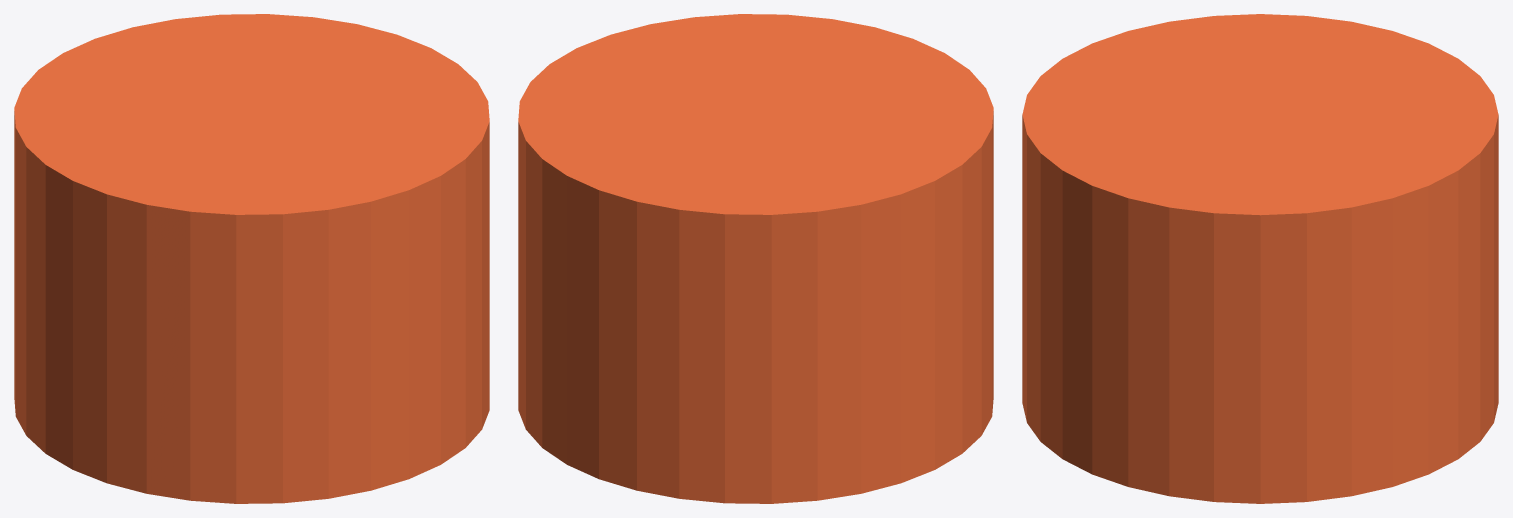
File: Field.obj
3 renders of one model, left to right at view 1: azimuth 30°, elevation 25°; view 2: azimuth 150°, elevation 25°; view 3: azimuth 270°, elevation 25°, orthographic.
Parts seen in each view (by area): view 1: 円柱; view 2: 円柱; view 3: 円柱.
Boxes of the visible parts, bbox=[...] form: 円柱: bbox=[14, 14, 489, 503]; 円柱: bbox=[518, 14, 993, 503]; 円柱: bbox=[1022, 14, 1498, 503].
Bounding box in the file's own units: 6.94 × 4.64 × 6.94.
1 material, 1 textured.
